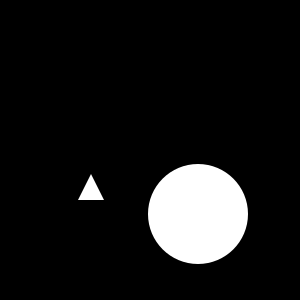rectangle: (148, 164, 248, 264)
triangle: (78, 174, 104, 200)
